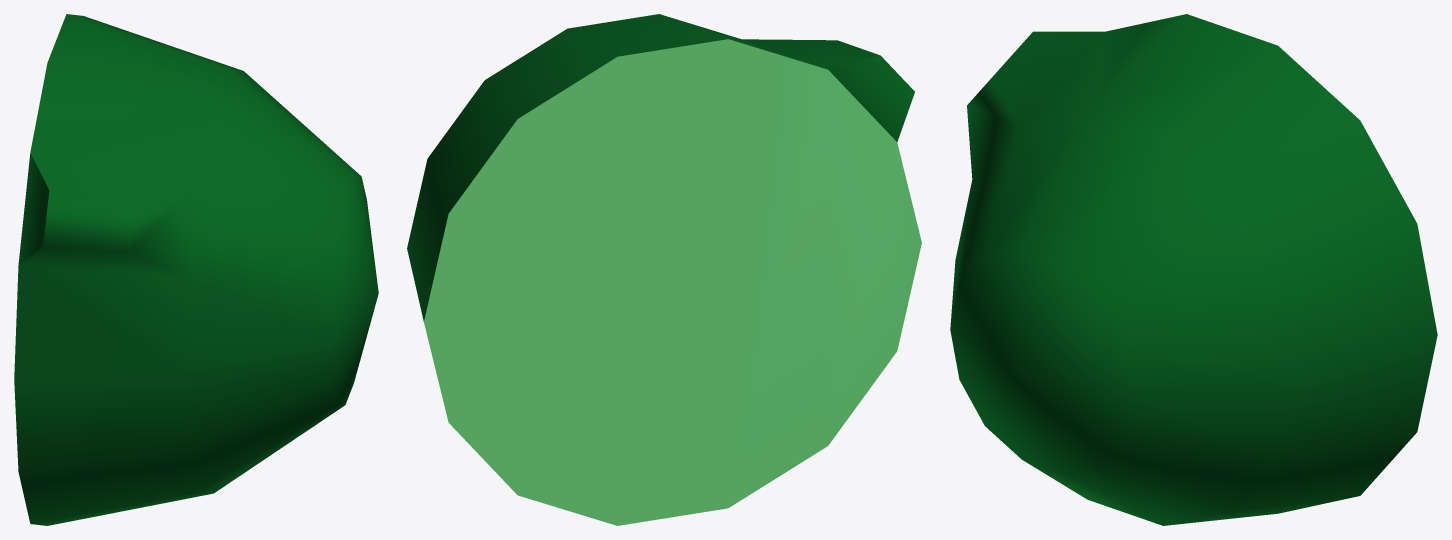
Rendered from mesh_Pickle_Stage13.fbx.
3 renders of one model, left to right at view 1: azimuth 30°, elevation 25°; view 2: azimuth 150°, elevation 25°; view 3: azimuth 270°, elevation 25°, orthographic.
Visible parts, largest first — view 1: mesh_Pickle_Stage13; view 2: mesh_Pickle_Stage13; view 3: mesh_Pickle_Stage13.
Boxes of the visible parts, x1,y1,x2,y2 form: mesh_Pickle_Stage13: (14, 14, 378, 525); mesh_Pickle_Stage13: (407, 14, 921, 525); mesh_Pickle_Stage13: (950, 14, 1437, 525).
Size of the model in its own units: 0.0255 by 0.0277 by 0.0262.
